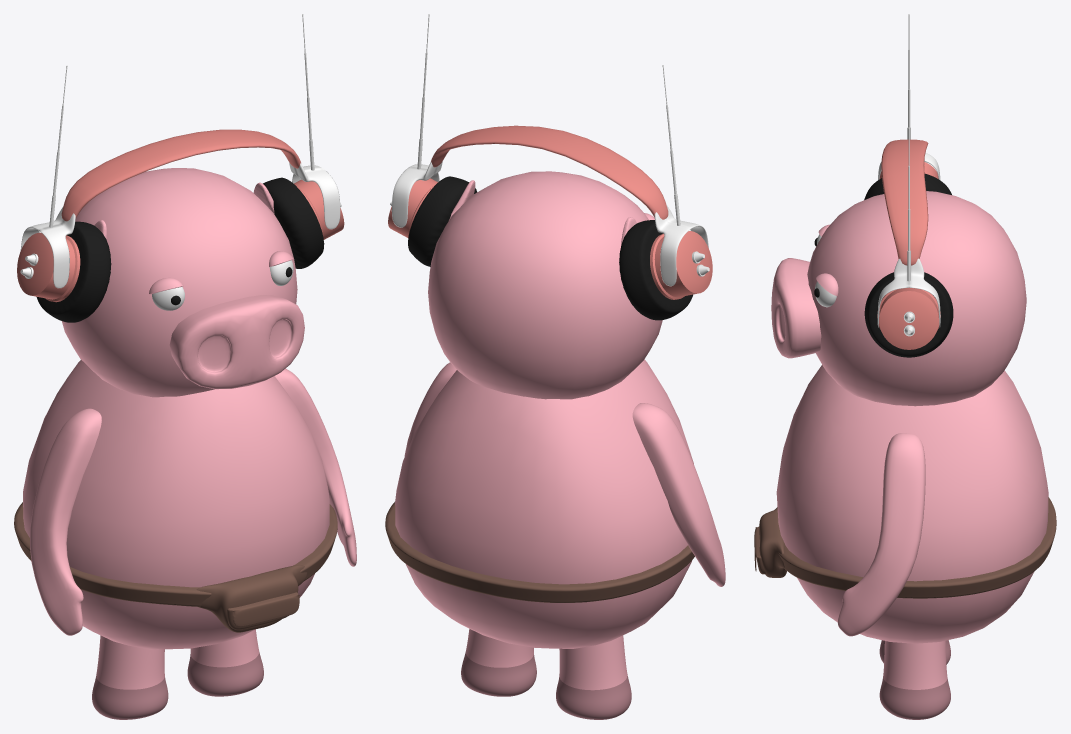
File: magpie-01.glb
The picture shows the model from 3 angles, left to right: view 1: azimuth 30°, elevation 25°; view 2: azimuth 150°, elevation 25°; view 3: azimuth 270°, elevation 25°; orthographic projection. The views are drawn at different scales.
Visible parts, largest first — view 1: Body.001, Head.002, Snout.001, ArmR.001, Cube.002, LegR.001, Cylinder.016, LegL.001, Cylinder.015, ArmL.001, Fanny Pack.003, Cylinder.017 (+5 smaller); view 2: Body.001, Head.002, ArmR.001, Cylinder.016, Cube.002, LegR.001, LegL.001, Cylinder.015, Cylinder.017, Earphone.L.002, Cube.004, Cube.005 (+2 smaller); view 3: Body.001, Head.002, ArmL.001, LegL.001, Cylinder.016, Cube.002, Snout.001, Earphone.L.003, Cylinder.017, Fanny Pack.003, Cube.005, Cylinder.015.
Boxes of the visible parts, <box> form: Body.001: <box>23,360,329,649</box>; Head.002: <box>62,168,297,397</box>; Snout.001: <box>169,295,304,389</box>; ArmR.001: <box>30,408,101,635</box>; Cube.002: <box>61,129,300,221</box>; LegR.001: <box>92,635,168,719</box>; Cylinder.016: <box>14,502,337,606</box>; LegL.001: <box>187,629,263,696</box>; Cylinder.015: <box>36,221,111,322</box>; ArmL.001: <box>275,368,356,566</box>; Fanny Pack.003: <box>196,565,306,632</box>; Cylinder.017: <box>263,177,324,268</box>; Body.001: <box>395,359,693,648</box>; Head.002: <box>428,171,662,399</box>; ArmR.001: <box>632,403,725,586</box>; Cylinder.016: <box>385,502,694,602</box>; Cube.002: <box>431,125,668,219</box>; LegR.001: <box>556,635,631,719</box>; LegL.001: <box>461,629,536,696</box>; Cylinder.015: <box>619,220,692,320</box>; Cylinder.017: <box>408,176,476,266</box>; Earphone.L.002: <box>650,231,712,299</box>; Cube.004: <box>654,205,708,286</box>; Cube.005: <box>391,161,442,227</box>; Body.001: <box>776,365,1048,643</box>; Head.002: <box>807,191,1026,406</box>; ArmL.001: <box>837,433,925,636</box>; LegL.001: <box>879,640,950,719</box>; Cylinder.016: <box>778,497,1056,598</box>; Cube.002: <box>881,139,928,265</box>; Snout.001: <box>771,258,821,358</box>; Earphone.L.003: <box>877,287,940,349</box>; Cylinder.017: <box>864,272,953,357</box>; Fanny Pack.003: <box>759,507,786,577</box>; Cube.005: <box>877,258,940,327</box>; Cylinder.015: <box>864,173,951,199</box>.
Bounding box in the file's own units: 2.32 × 4.6 × 2.02.
